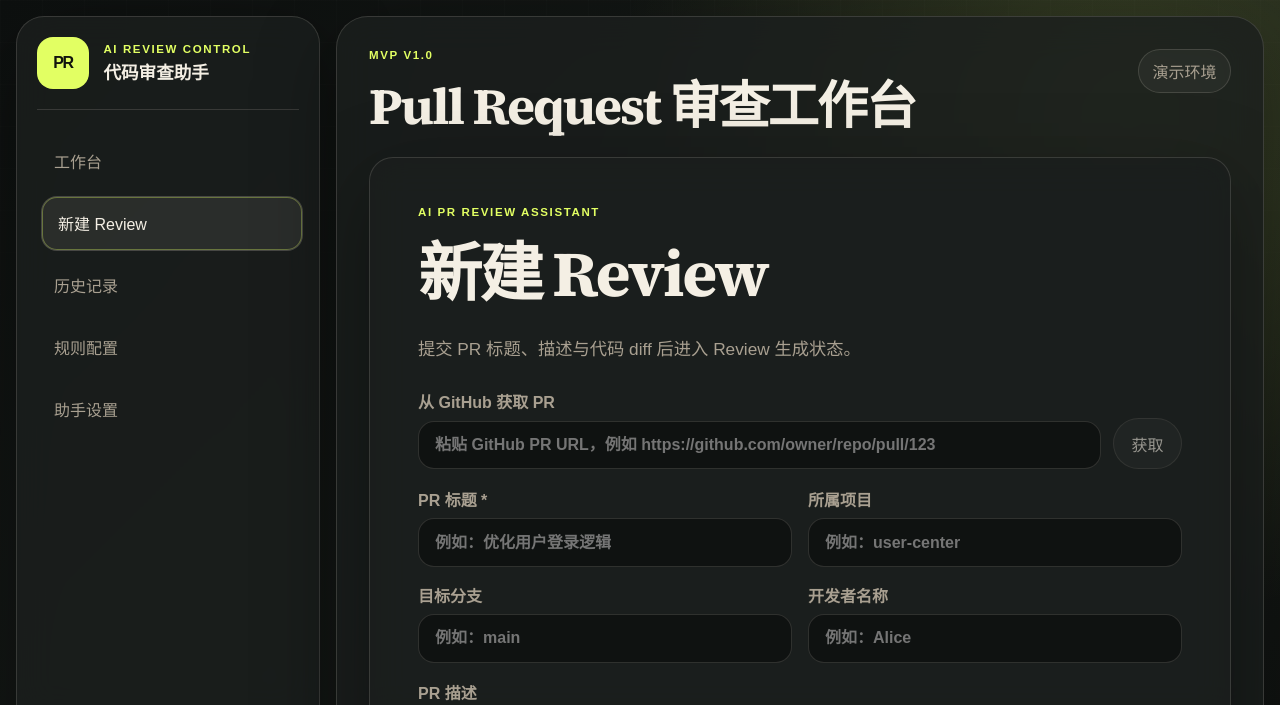
Test: new Review task form › surfaces user-readable submit failures without leaving the form
This screenshot has width=1280, height=705.
In the field labelled "PR 标题 *": (605, 542) [418, 518, 792, 567], type "优化用户登录逻辑"
(page scrolled)
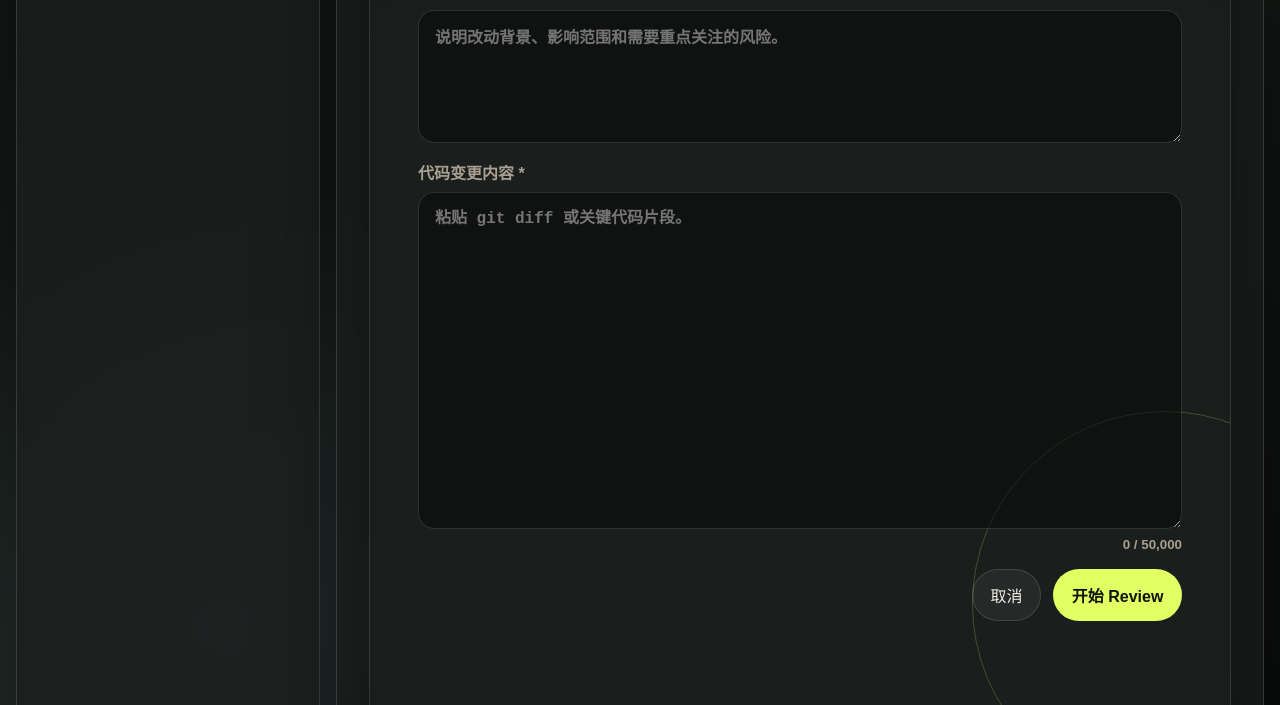
In the text box labelled "代码变更内容 * 0 / 50,000": (800, 361) [418, 192, 1182, 530], type "diff --git a/auth.ts b/auth.ts"
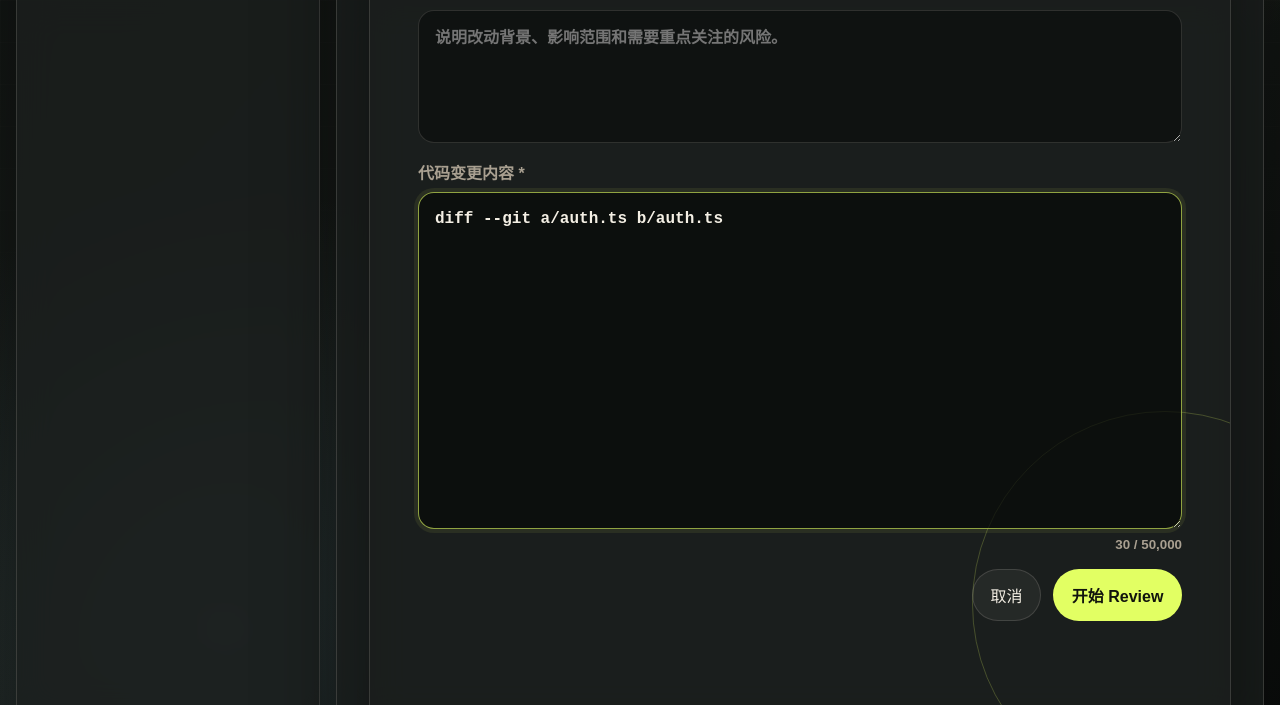
Click the button "开始 Review": (1118, 595) [1053, 569, 1182, 621]
(page scrolled)
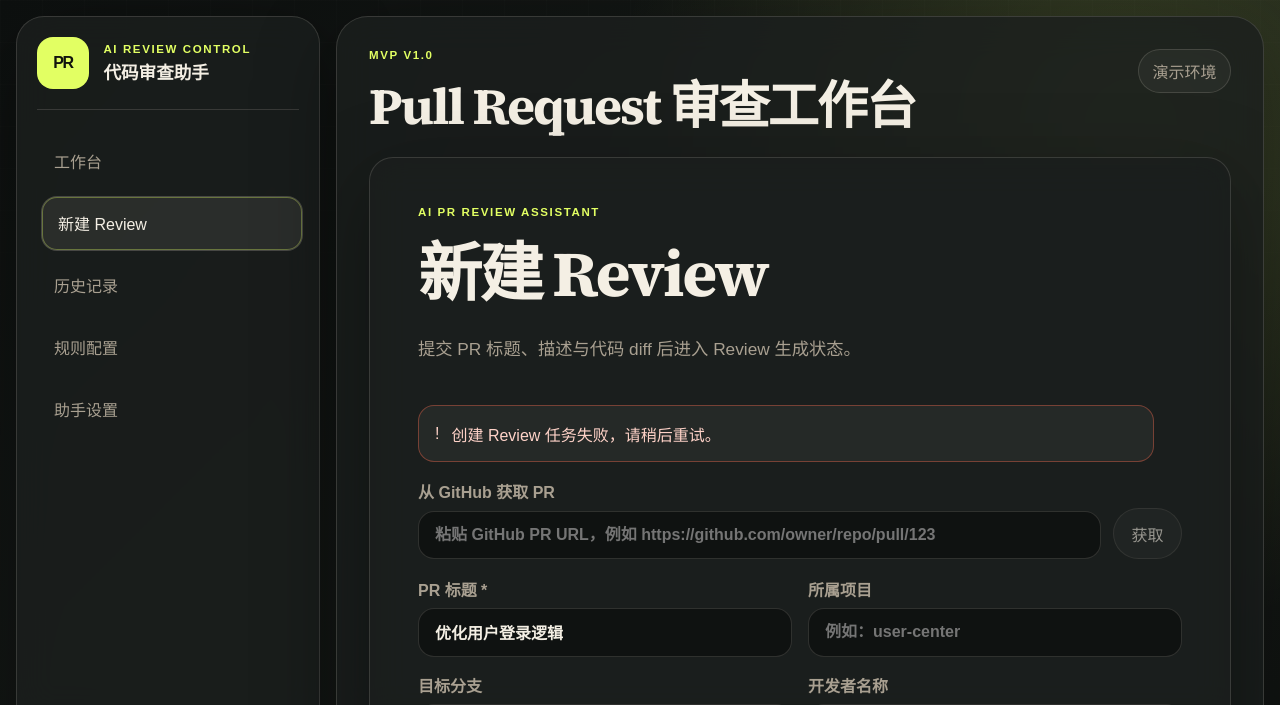
Expected: the heading "新建 Review" is shown, [418, 230, 767, 317]
Now the text "创建 Review 任务失败，请稍后重试。" is shown, box [452, 422, 721, 446]
